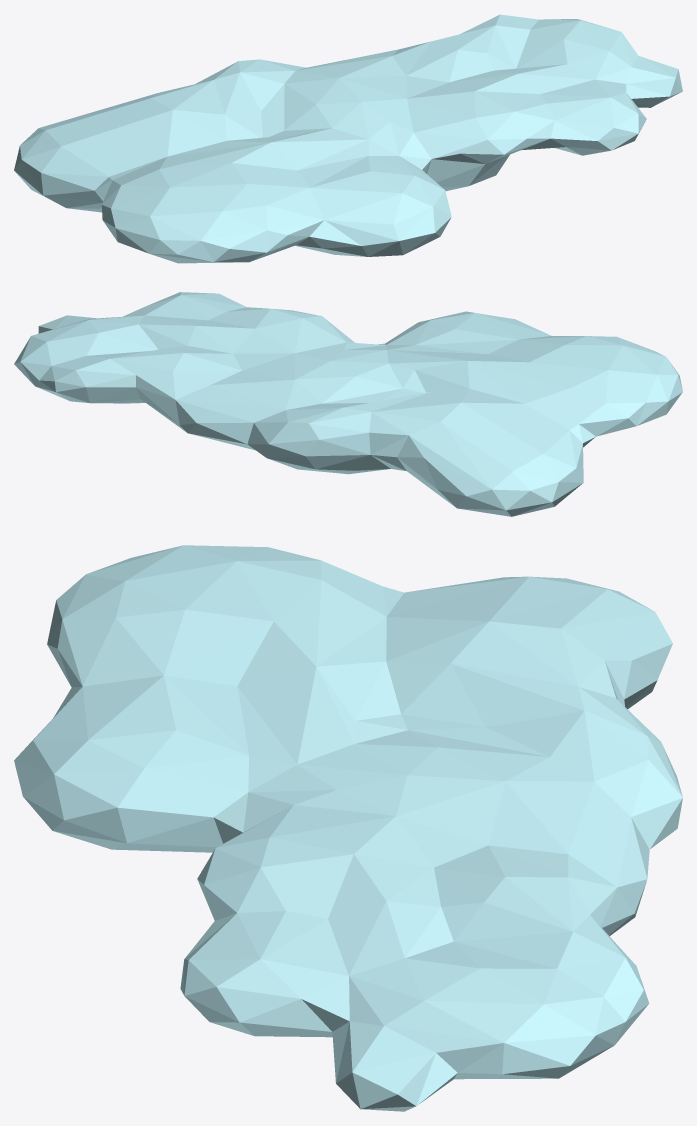
File: Cloud_2.glb
3 renders of one model, top to bottom at view 1: azimuth 30°, elevation 25°; view 2: azimuth 150°, elevation 25°; view 3: azimuth 270°, elevation 25°, orthographic. The views are drawn at different scales.
Parts seen in each view (by area): view 1: Cloud_02; view 2: Cloud_02; view 3: Cloud_02.
Part boxes in pixels (x1,y1,x2,y2): Cloud_02: (14, 14, 682, 263); Cloud_02: (14, 292, 682, 516); Cloud_02: (14, 545, 682, 1111).
Bounding box in the file's own units: 14.62 × 2.03 × 8.38.
